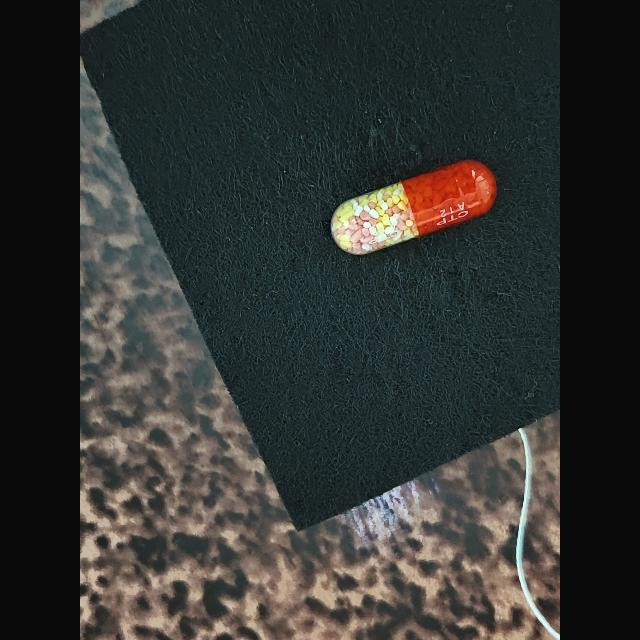Intact Capsule: (331, 160, 497, 255)
